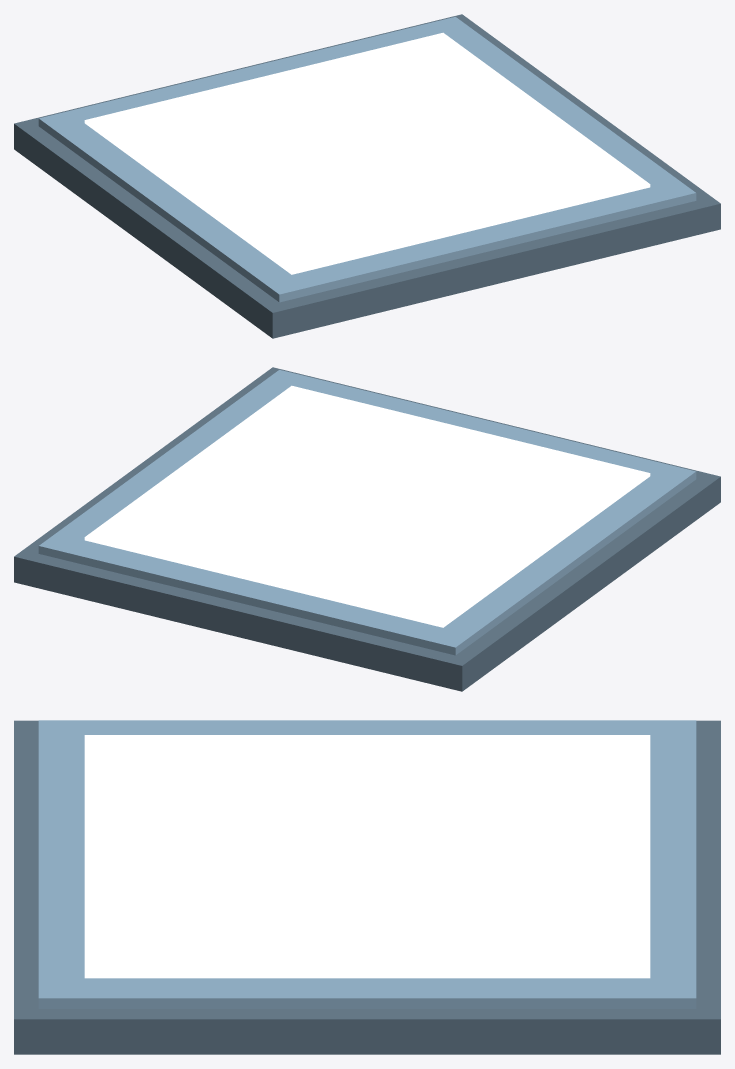
Rendered from k_ice_b.glb.
The picture shows the model from 3 angles, top to bottom: view 1: azimuth 30°, elevation 25°; view 2: azimuth 150°, elevation 25°; view 3: azimuth 270°, elevation 25°; orthographic projection. The views are drawn at different scales.
Visible parts, largest first — view 1: piece; view 2: piece; view 3: piece.
Boxes of the visible parts, x1,y1,x2,y2 form: piece: (14, 14, 720, 338); piece: (14, 367, 720, 691); piece: (14, 720, 720, 1054).
Size of the model in its own units: 1 by 0.0794 by 1.
